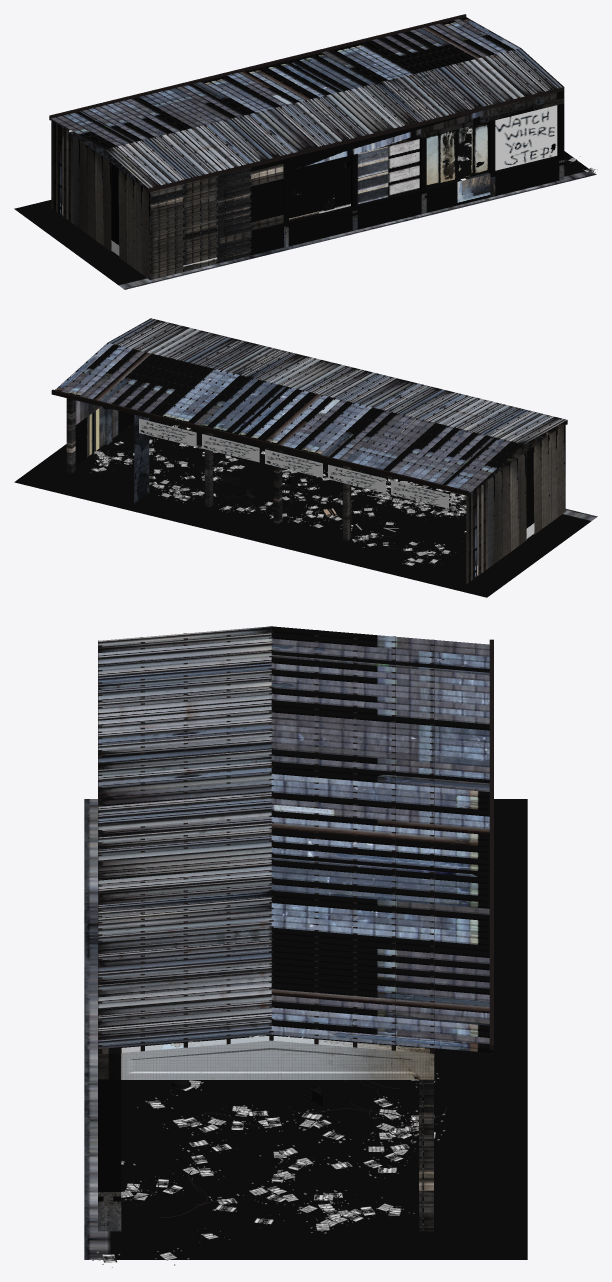
The model's file is abandoned_warehouse_-_interior_scene.glb.
3 views of the same model, one above another, from view 1: azimuth 30°, elevation 25°; view 2: azimuth 150°, elevation 25°; view 3: azimuth 270°, elevation 25° (orthographic). The views are drawn at different scales.
Parts seen in each view (by area): view 1: Plane.001, Plane.006, Plane.005, Plane.004, Cube, Plane, Cube.002, Cube.005, TexturesCom_WindowsBacklit0019_15_M, TexturesCom_WindowsBacklit0019_13_M, TexturesCom_WindowsBacklit0019_12_M, TexturesCom_WindowsBacklit0019_14_M (+4 smaller); view 2: Plane, Plane.006, Plane.001, Plane.004, TexturesCom_WindowsBacklit0019_13_M.002, TexturesCom_CardboardPlain0019_2_alphamasked_S.049, Cube.003, Cube.008, Cube.005, Cube.006, Icosphere.1295, Plane.002 (+4 smaller); view 3: Plane.006, Plane, Plane.001, Cube.004, TexturesCom_CardboardPlain0019_2_alphamasked_S.049, Cube.001, Cube.005, Cube.006, Cube.003, Cube.008, Icosphere.1295, BezierCurve.033.
Part boxes in pixels (x1,y1,x2,y2): Plane.001: [105, 48, 562, 188]; Plane.006: [51, 17, 520, 149]; Plane.005: [150, 159, 283, 279]; Plane.004: [51, 120, 150, 279]; Cube: [289, 155, 559, 246]; Plane: [14, 126, 596, 289]; Cube.002: [283, 91, 564, 171]; Cube.005: [104, 48, 564, 192]; TexturesCom_WindowsBacklit0019_15_M: [357, 138, 419, 204]; TexturesCom_WindowsBacklit0019_13_M: [495, 105, 557, 170]; TexturesCom_WindowsBacklit0019_12_M: [289, 155, 350, 220]; TexturesCom_WindowsBacklit0019_14_M: [426, 122, 488, 187]; Plane: [14, 418, 597, 597]; Plane.006: [55, 343, 523, 492]; Plane.001: [108, 318, 566, 444]; Plane.004: [466, 424, 565, 584]; TexturesCom_WindowsBacklit0019_13_M.002: [139, 418, 448, 508]; TexturesCom_CardboardPlain0019_2_alphamasked_S.049: [91, 425, 466, 565]; Cube.003: [66, 398, 351, 540]; Cube.008: [51, 389, 469, 495]; Cube.005: [107, 318, 567, 449]; Cube.006: [66, 352, 513, 485]; Icosphere.1295: [89, 425, 466, 566]; Plane.002: [134, 408, 149, 502]; Plane.006: [271, 626, 493, 1052]; Plane: [84, 799, 527, 1259]; Plane.001: [98, 626, 271, 1048]; Cube.004: [109, 1036, 434, 1079]; TexturesCom_CardboardPlain0019_2_alphamasked_S.049: [102, 1035, 436, 1262]; Cube.001: [98, 1047, 121, 1231]; Cube.005: [98, 626, 273, 1053]; Cube.006: [314, 630, 434, 1053]; Cube.003: [419, 1047, 433, 1231]; Cube.008: [489, 639, 493, 1053]; Icosphere.1295: [91, 1036, 445, 1267]; BezierCurve.033: [121, 1039, 447, 1218].
Size of what is drawn, in the model's own units: 33.74 by 6.73 by 13.48.
33 materials, 24 textured.
